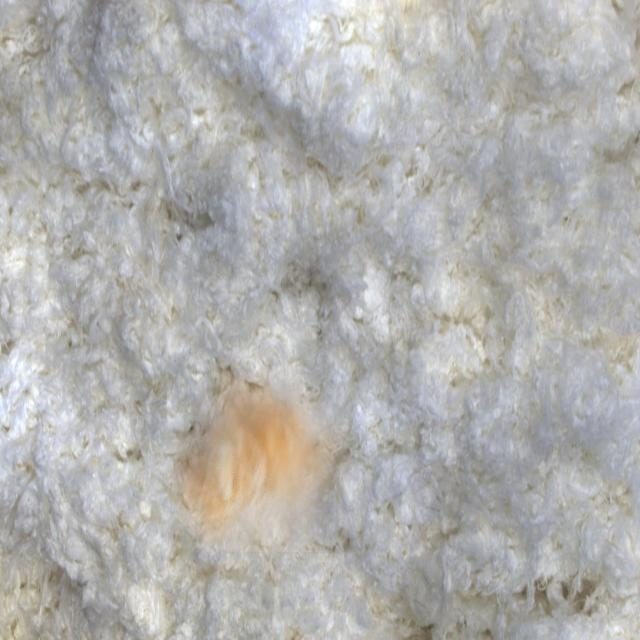dust: (170, 348, 354, 552)
